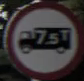Heavy Vehicles: (6, 11, 76, 61)
